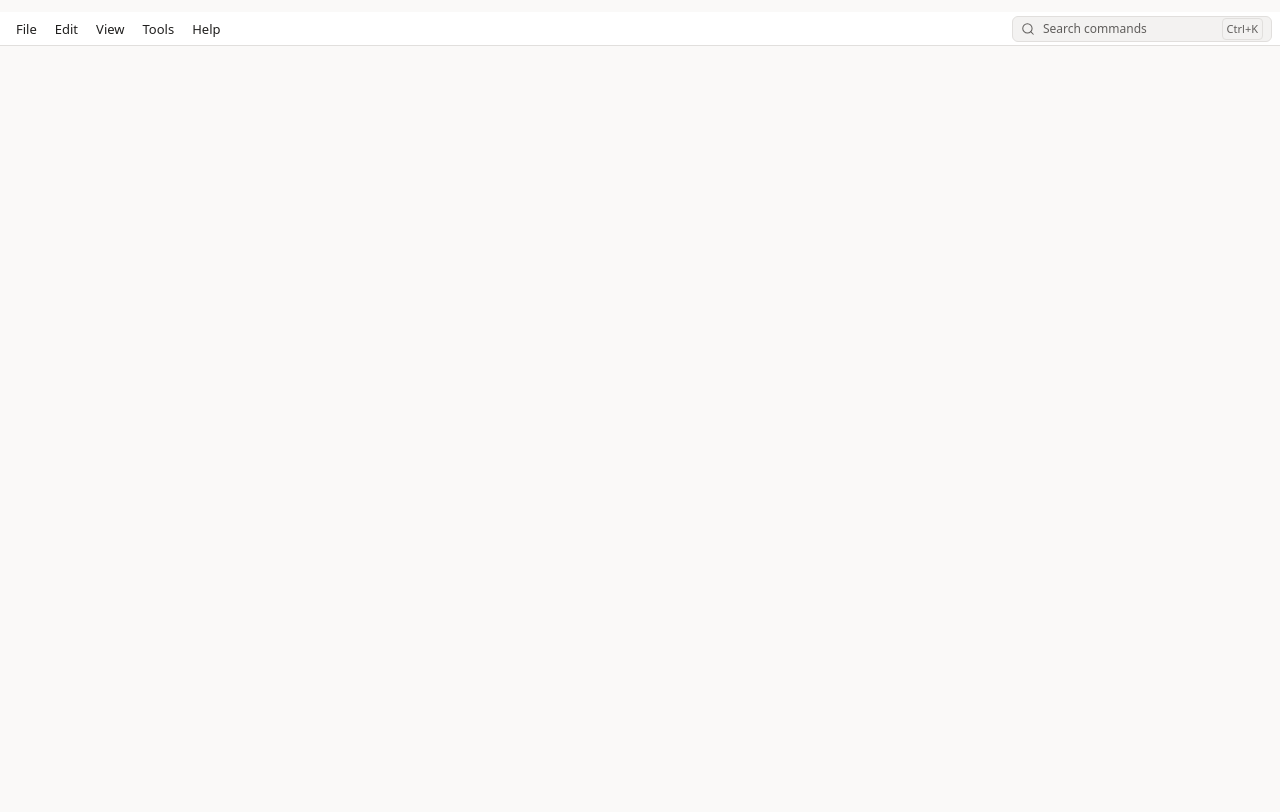
command bar › disables a command that cannot run and explains why
Click the menu item "Tools".
click(158, 28)  # box [134,16,182,42]
(page scrolled)
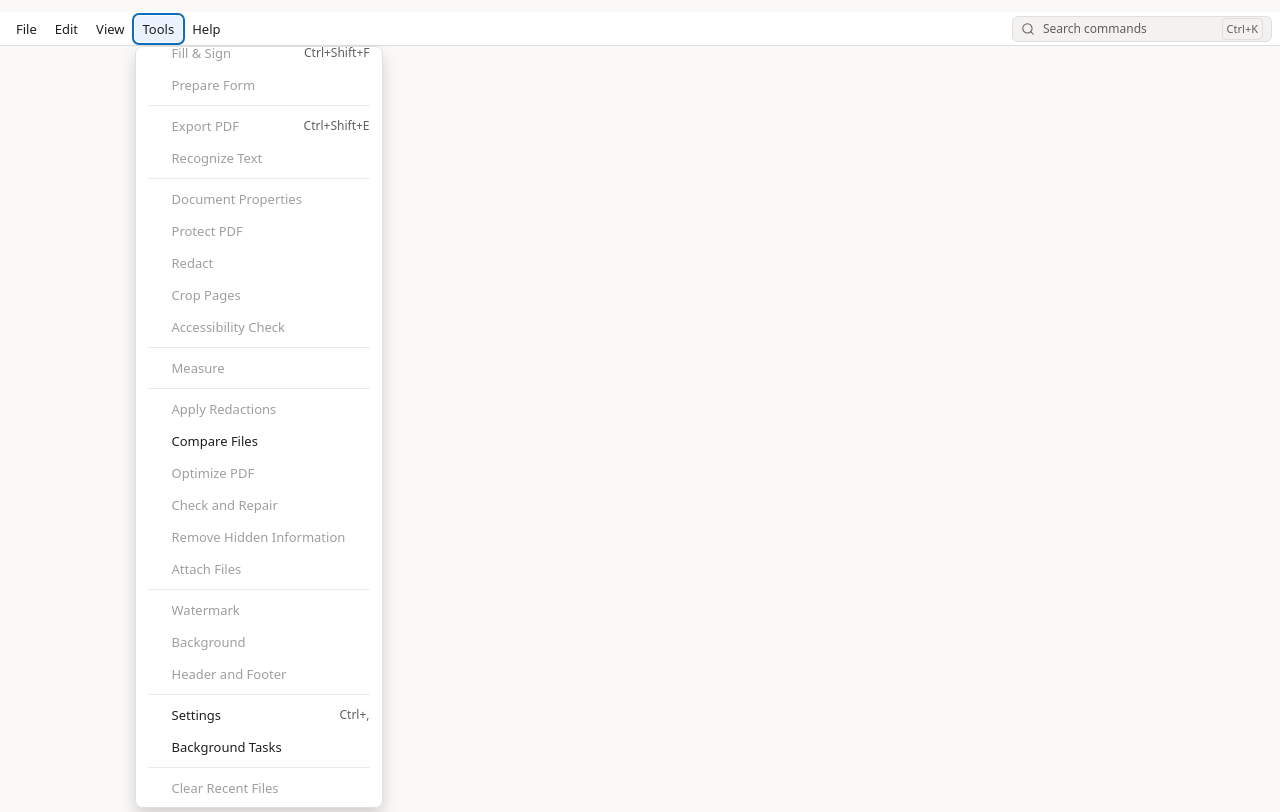
Check: the menu item "Clear Recent Files" is disabled, box [140,772,378,804]
